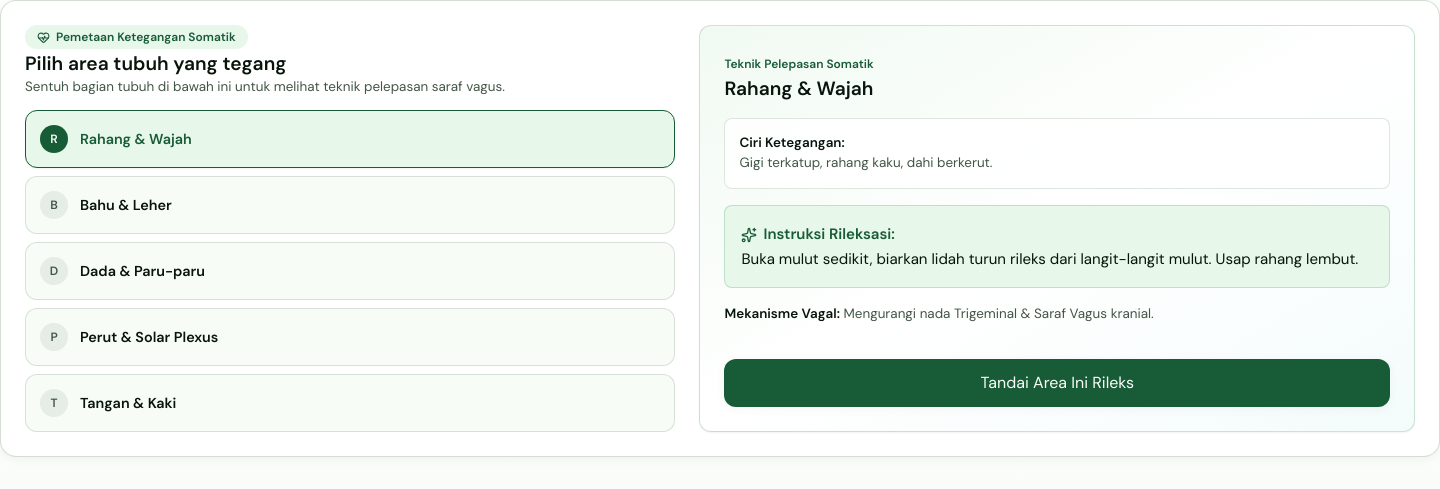
Scenario: SomaticBodyScan › shows the somatic guidance belonging to the chosen region
Check: the heading "Rahang & Wajah" is shown, box [724,76,874,101]
Click the button "T Tangan & Kaki" at (128, 402), box [25,374,676,432]
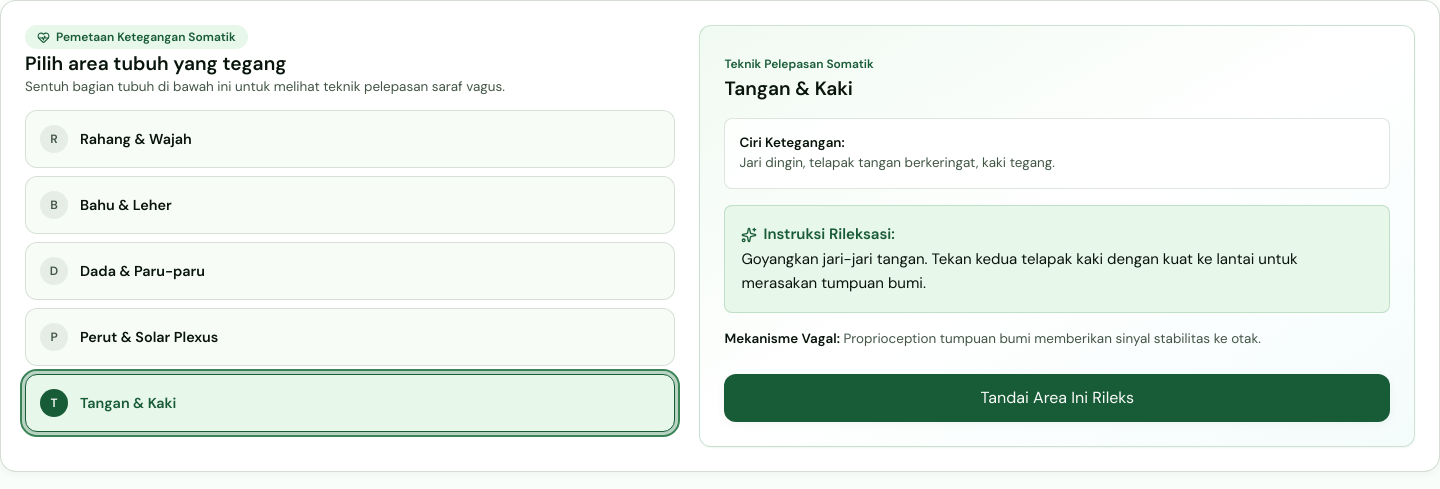
Check: the heading "Tangan & Kaki" is shown, box [724,76,853,101]
